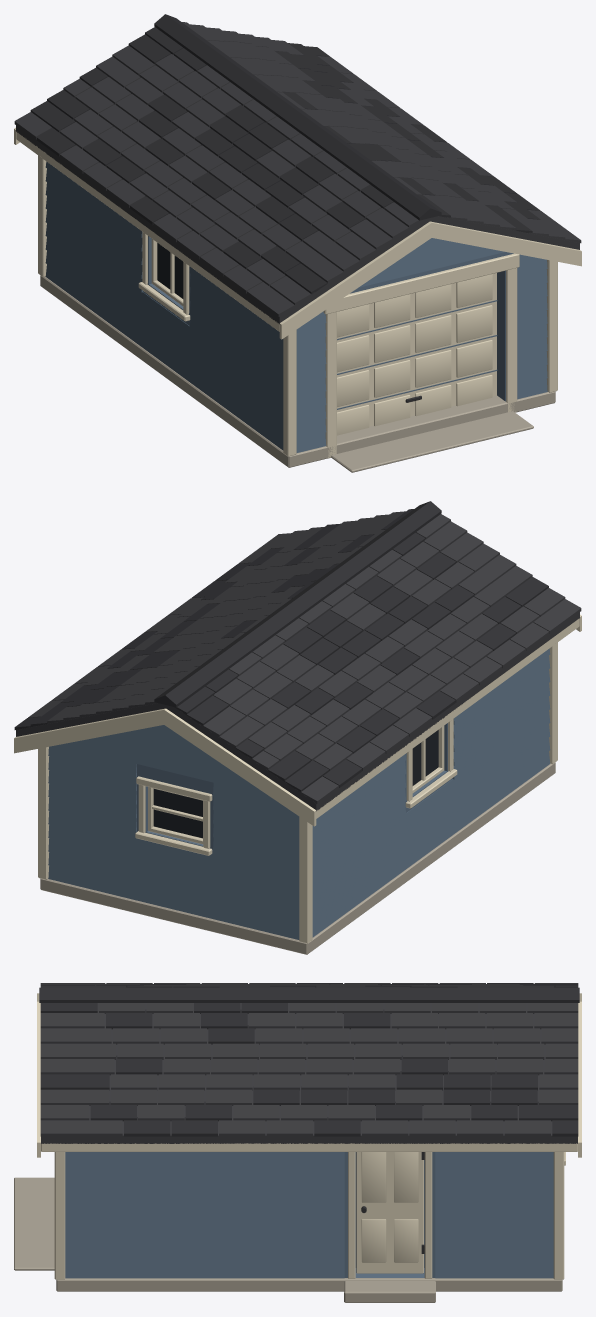
File: Garage.fbx
3 views of the same model, one above another, from view 1: azimuth 30°, elevation 25°; view 2: azimuth 150°, elevation 25°; view 3: azimuth 270°, elevation 25° (orthographic).
Parts seen in each view (by area): view 1: Garage_Mesh; view 2: Garage_Mesh; view 3: Garage_Mesh.
Boxes of the visible parts, x1,y1,x2,y2 form: Garage_Mesh: [14, 14, 581, 472]; Garage_Mesh: [14, 501, 581, 954]; Garage_Mesh: [14, 983, 581, 1302].
Size of the model in its own units: 4.72 by 3.42 by 7.4.
